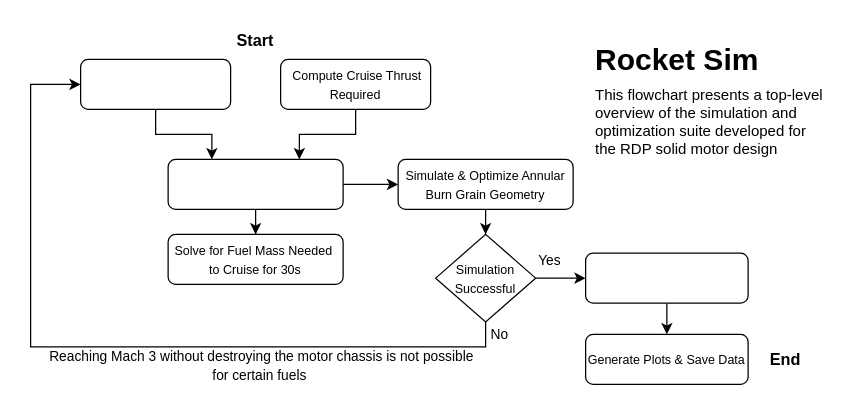
This 853x406 diagram has some shape labels left out. Each missing label, with the centre of its shape:
"Select a Fuel" belongs at point 155,83.
"Solve for Ae/At Needed to Achieve Cruise Thrust" belongs at point 255,183.
"Solve for Fuel Mass Needed to Accelerate to Mach 3" belongs at point 666,277.
